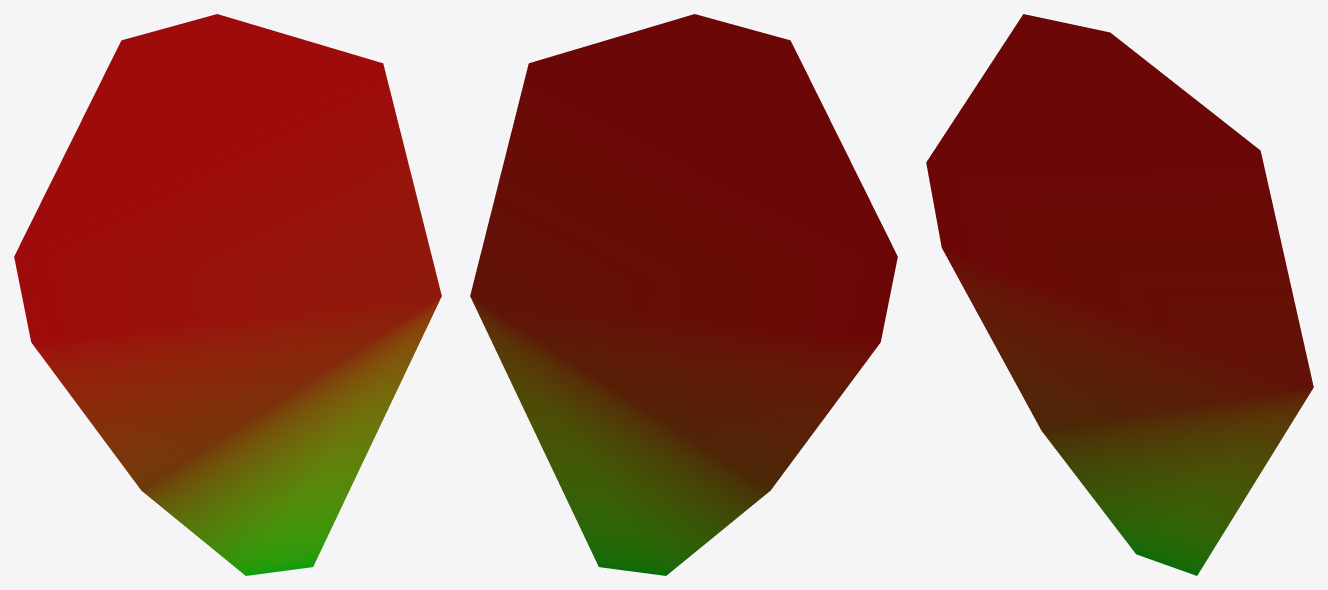
File: Butterfly Weed_LOD4_Var9.fbx
The picture shows the model from 3 angles, left to right: view 1: azimuth 30°, elevation 25°; view 2: azimuth 150°, elevation 25°; view 3: azimuth 330°, elevation 25°; orthographic projection. The views are drawn at different scales.
Visible parts, largest first — view 1: _iwo6_Var9_LOD4; view 2: _iwo6_Var9_LOD4; view 3: _iwo6_Var9_LOD4.
Part boxes in pixels (x1,y1,x2,y2): _iwo6_Var9_LOD4: (14,14,441,575); _iwo6_Var9_LOD4: (470,14,897,575); _iwo6_Var9_LOD4: (926,14,1313,575).
Bounding box in the file's own units: 57.79 × 74.41 × 4.53e-06.
